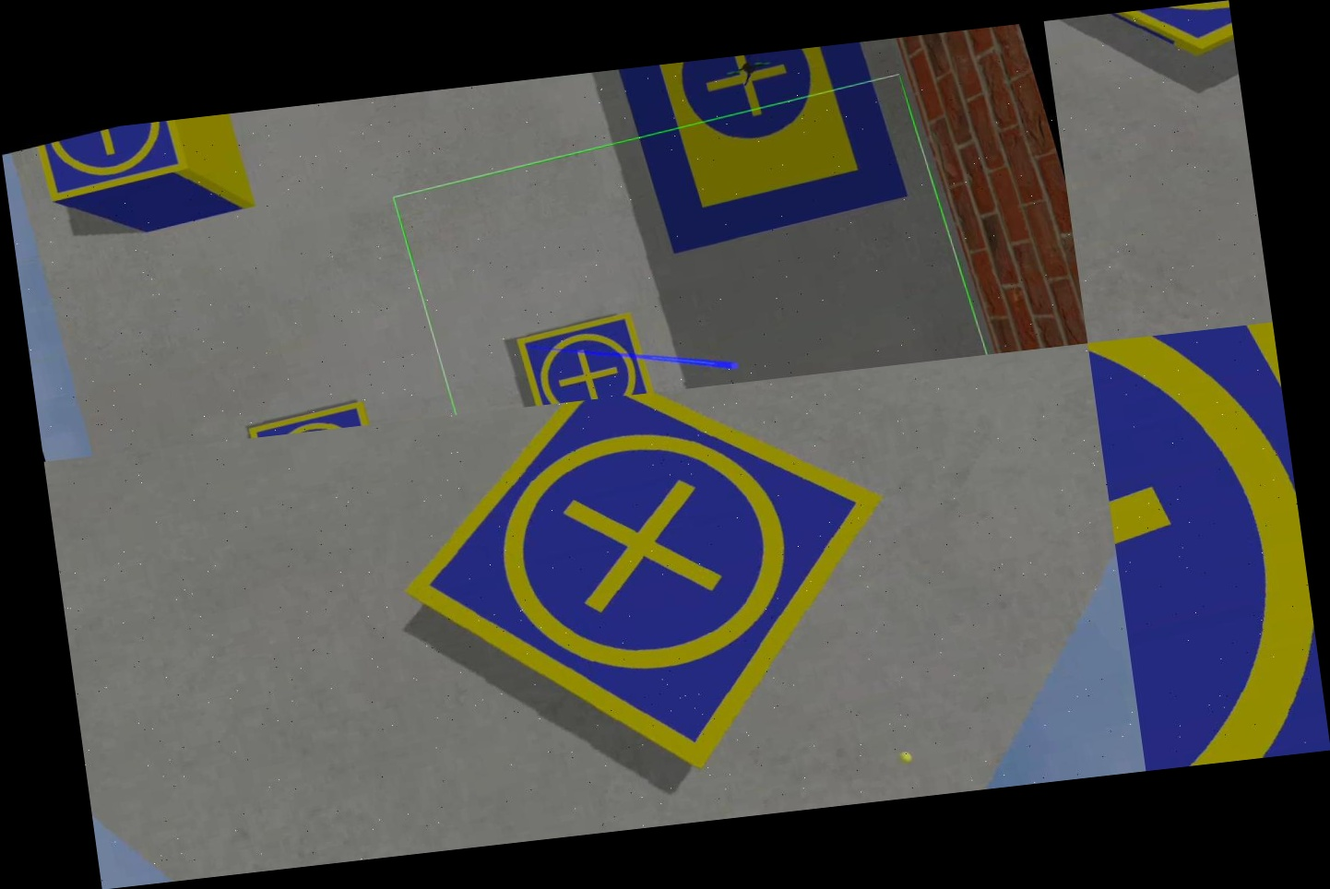large_base: (606, 39, 916, 264)
small_base: (354, 363, 961, 830), (1087, 322, 1330, 770), (1044, 0, 1238, 92), (510, 306, 659, 408), (31, 119, 191, 207)
